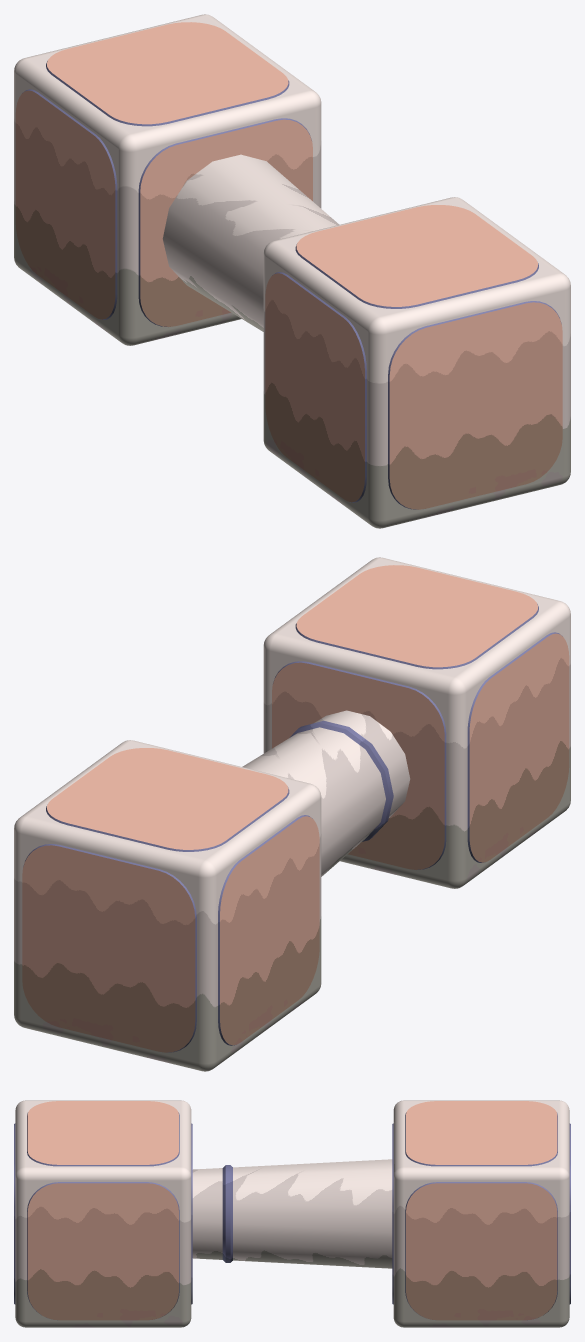
Rendered from R4C_STRUT_STANDARD.glb.
3 views of the same model, one above another, from view 1: azimuth 30°, elevation 25°; view 2: azimuth 150°, elevation 25°; view 3: azimuth 270°, elevation 25° (orthographic). The views are drawn at different scales.
Parts seen in each view (by area): view 1: R4C_STRUT_STANDARD; view 2: R4C_STRUT_STANDARD; view 3: R4C_STRUT_STANDARD.
Part boxes in pixels (box(x1,y1,x2,y2)): R4C_STRUT_STANDARD: box(14, 14, 570, 528); R4C_STRUT_STANDARD: box(14, 557, 570, 1071); R4C_STRUT_STANDARD: box(14, 1100, 570, 1327).
Bounding box in the file's own units: 0.52 × 0.52 × 1.62.
3 materials, 3 textured.
